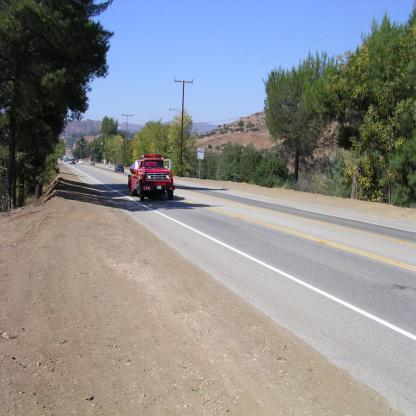Car: (114, 162, 124, 172), (70, 158, 76, 164), (79, 159, 83, 164)
Truck: (128, 154, 175, 202)
